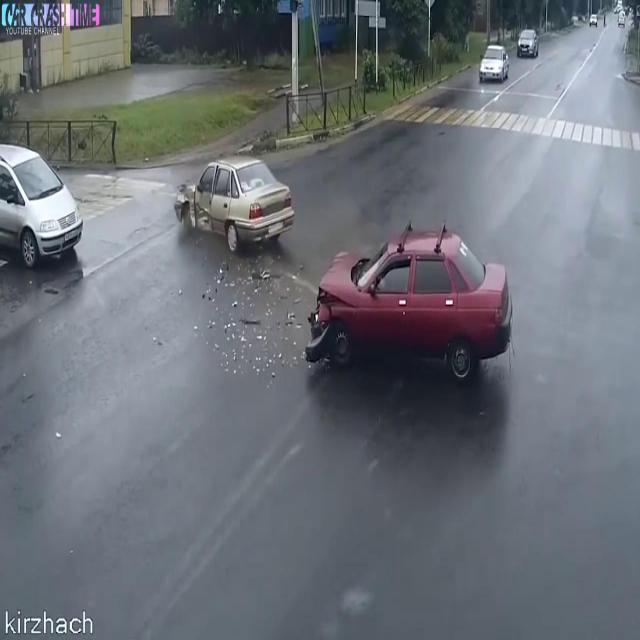accident: (167, 146, 521, 393)
